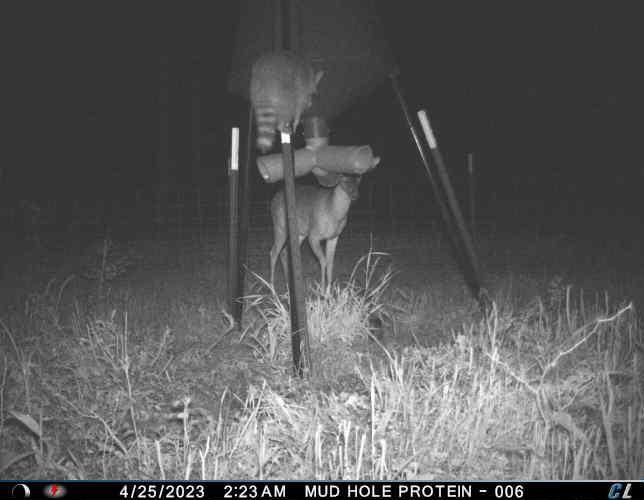Deer: (264, 156, 379, 291)
Raccoon: (248, 46, 322, 153)
